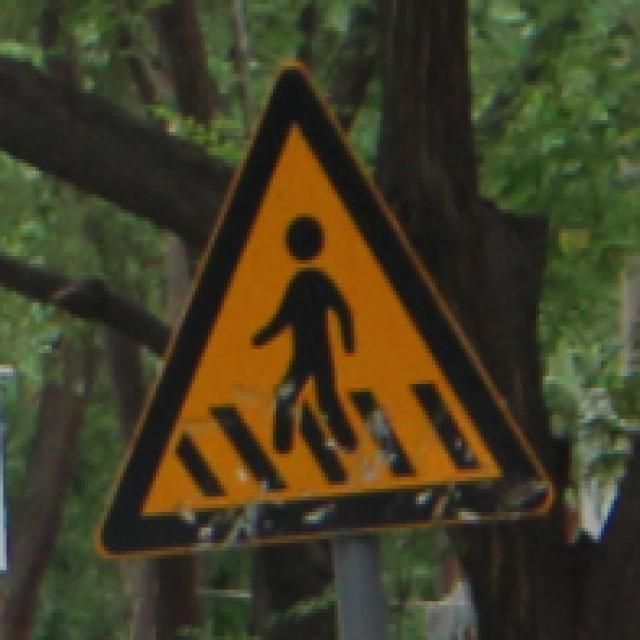Crossing: (92, 49, 591, 568)
